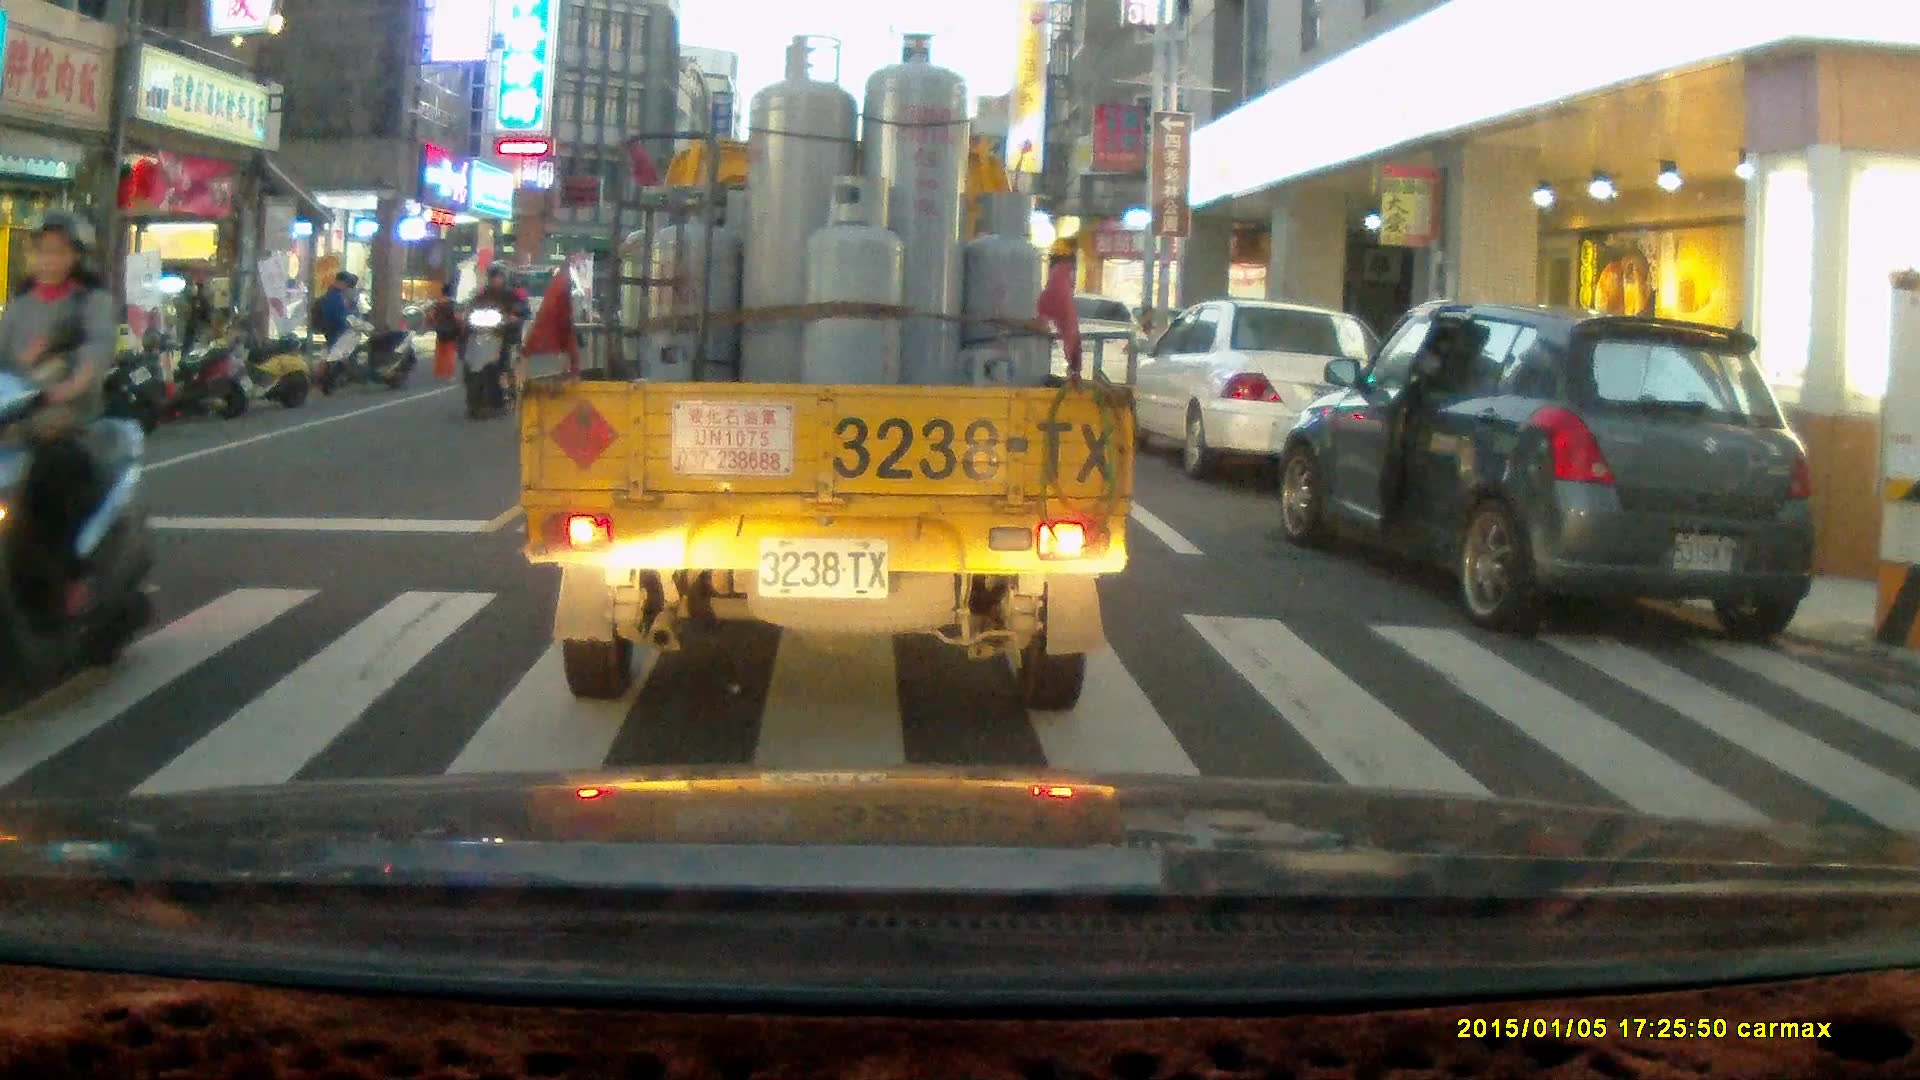pedestrian: (317, 270, 353, 385), (426, 281, 466, 379), (168, 278, 203, 387)
rider: (0, 204, 155, 714), (459, 264, 523, 417)
vehicle: (516, 64, 1136, 712), (1280, 307, 1825, 648), (1121, 301, 1390, 482), (1026, 295, 1160, 413), (461, 269, 586, 364)
